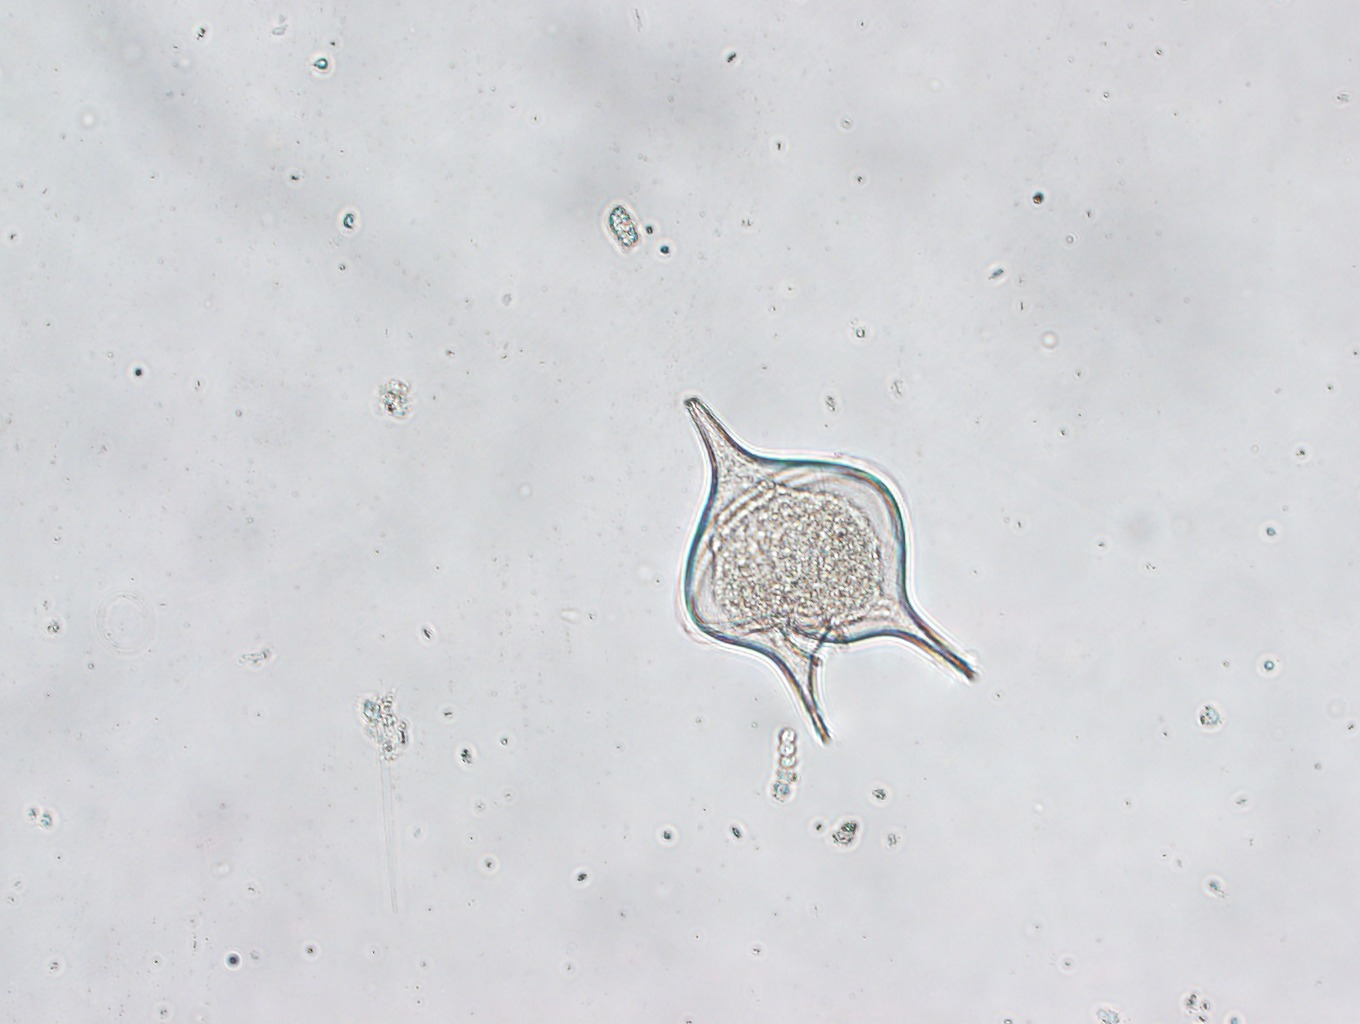protoperidinium: (652, 385, 979, 749)
